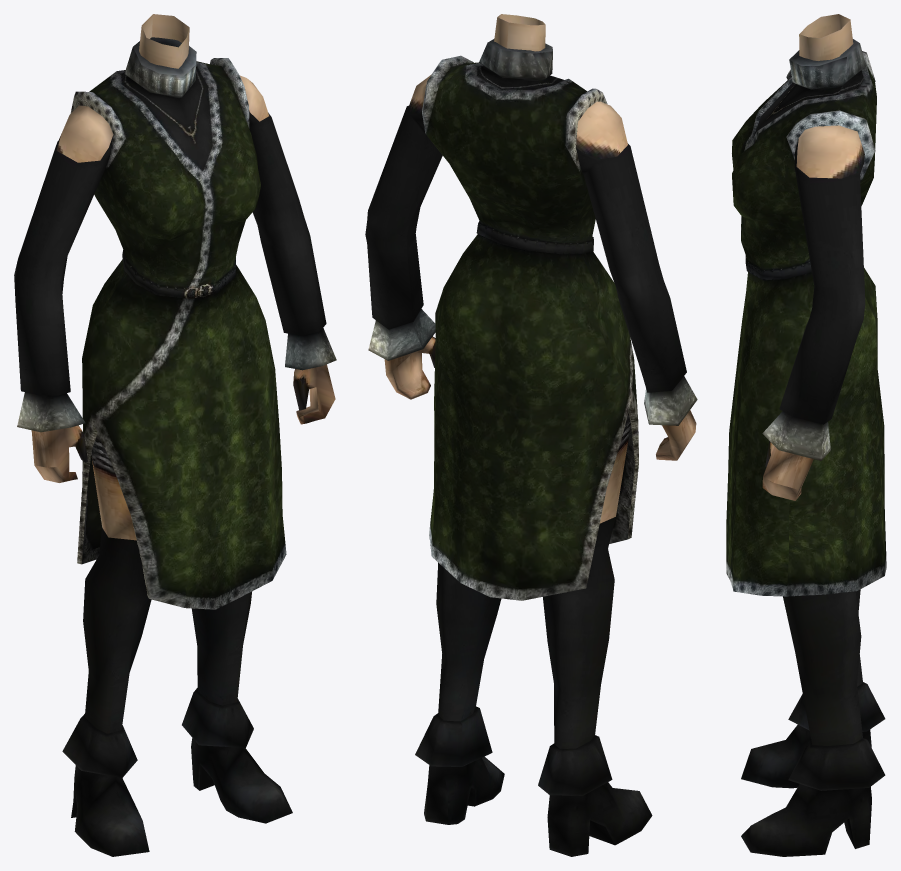
File: KM_DRESS_03.glb
3 renders of one model, left to right at view 1: azimuth 30°, elevation 25°; view 2: azimuth 150°, elevation 25°; view 3: azimuth 270°, elevation 25°, orthographic. The views are drawn at different scales.
Visible parts, largest first — view 1: KM_DRESS_03; view 2: KM_DRESS_03; view 3: KM_DRESS_03.
Boxes of the visible parts, <box> form: KM_DRESS_03: <box>14,14,336,856</box>; KM_DRESS_03: <box>365,14,697,856</box>; KM_DRESS_03: <box>726,14,886,856</box>.
Bounding box in the file's own units: 0.6694 × 1.67 × 0.307.
Materials: 2 (2 with a texture image).
